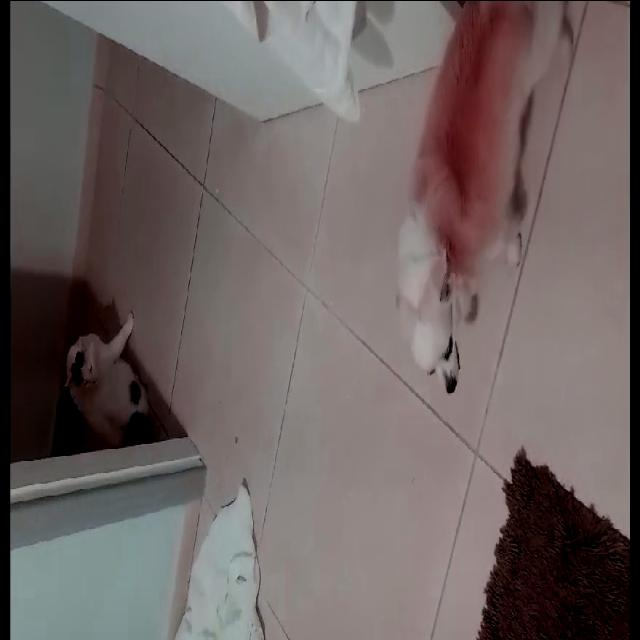Simba: (56, 315, 166, 447)
Theo: (359, 1, 571, 405)
